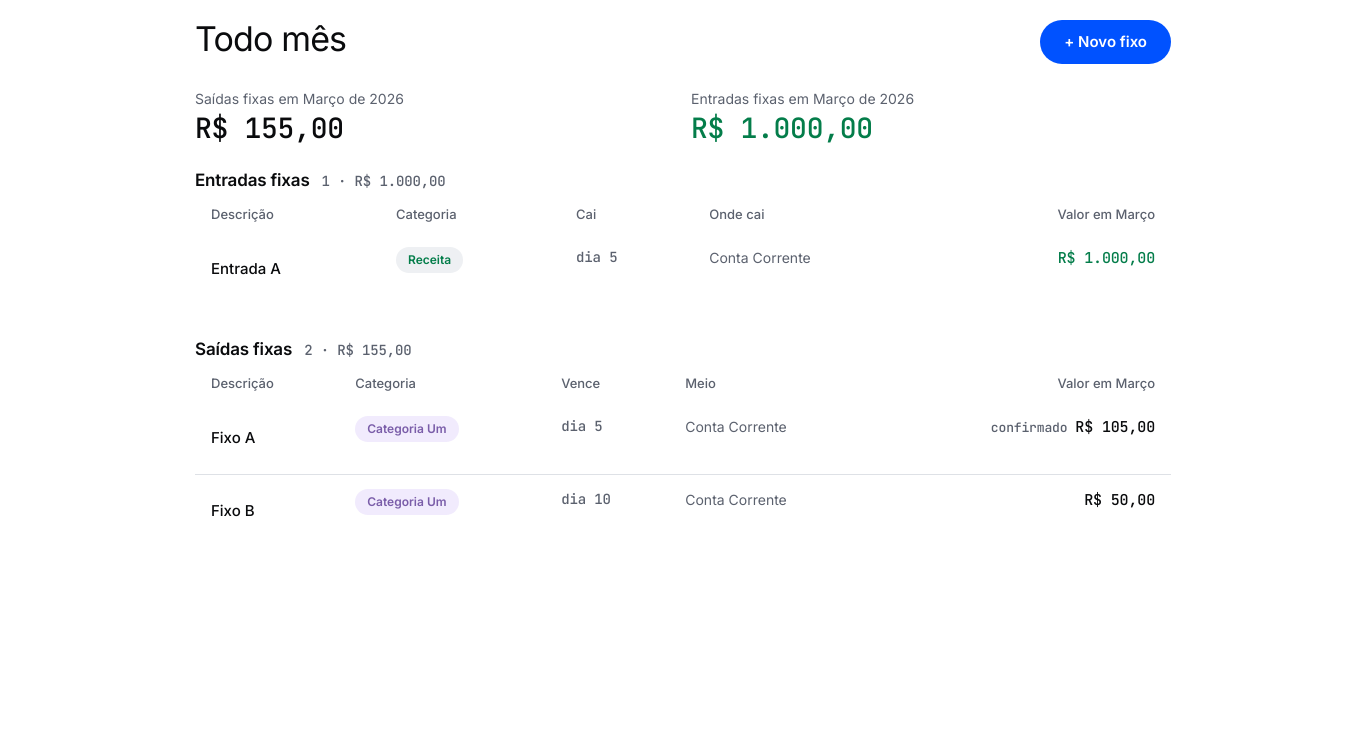
Test: o painel na ordem da tela (FIXCOL-07, ACs 5 e 6) › com um fixo aberto, o painel fica entre os totais e as seções
Click the button "Fixo B": (233, 511) [211,489,255,533]
(page scrolled)
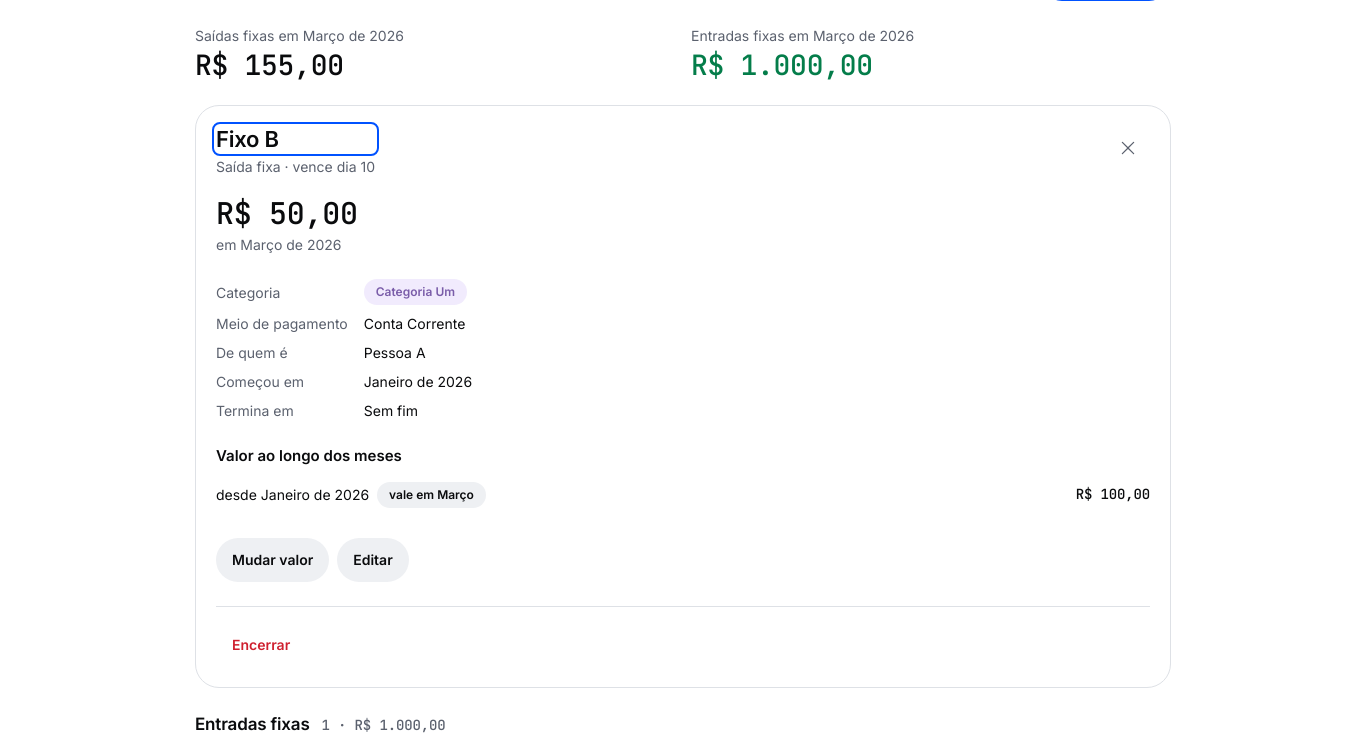
Now the element named "Painel do fixo" is shown, box [195,105,1171,688]
